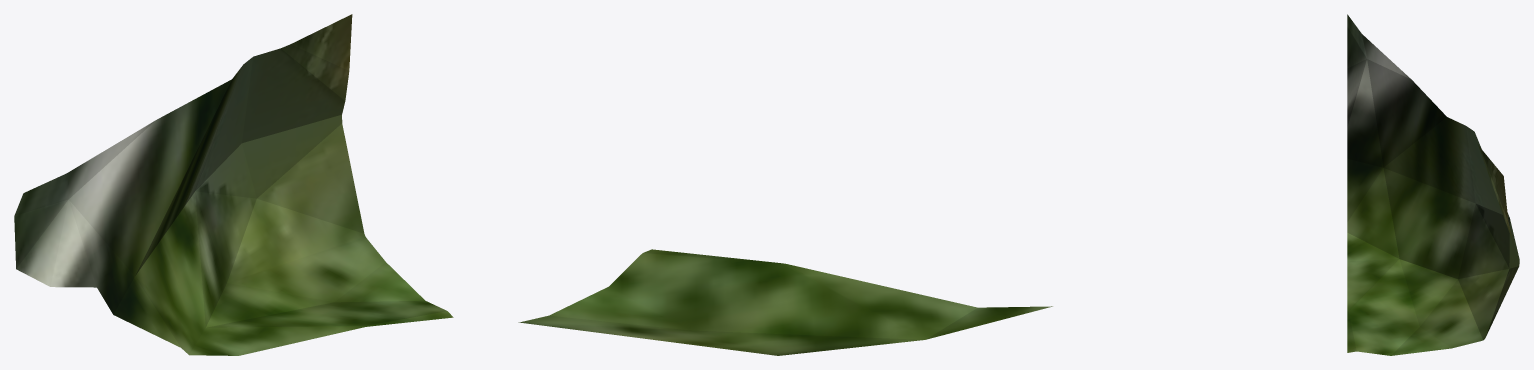
The picture shows the model from 3 angles, left to right: view 1: azimuth 30°, elevation 25°; view 2: azimuth 150°, elevation 25°; view 3: azimuth 270°, elevation 25°; orthographic projection. The views are drawn at different scales.
Size of the model in its own units: 0.4165 by 0.2112 by 0.1833.
1 material, 1 textured.
